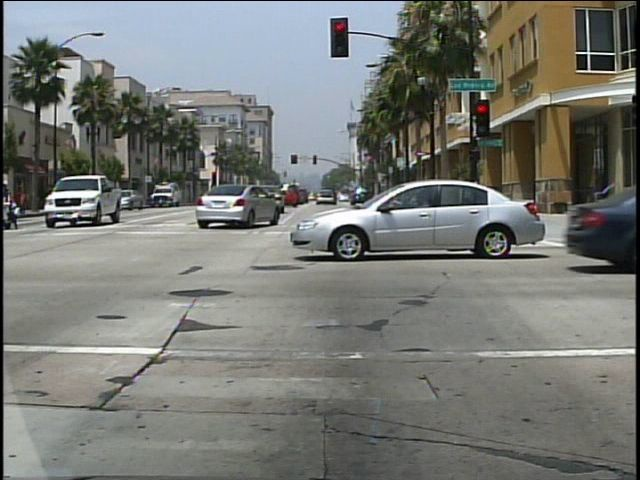person: (3, 176, 26, 233)
